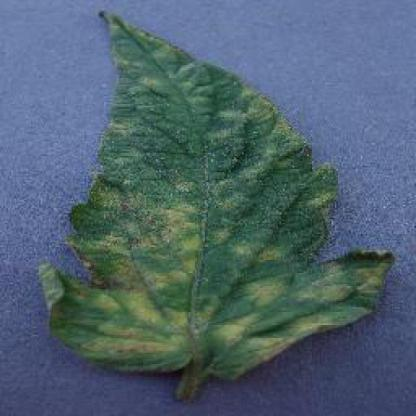Tomato_Leaf_Mold: (44, 10, 388, 369)
